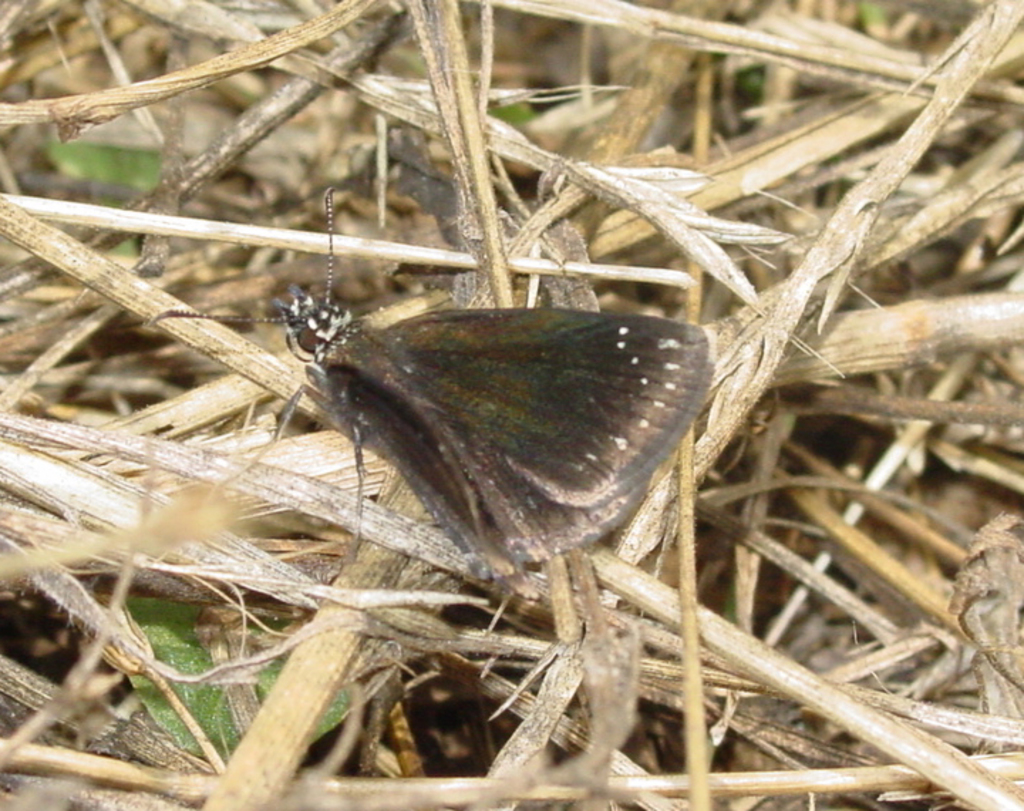Butterfly: (221, 280, 731, 589)
